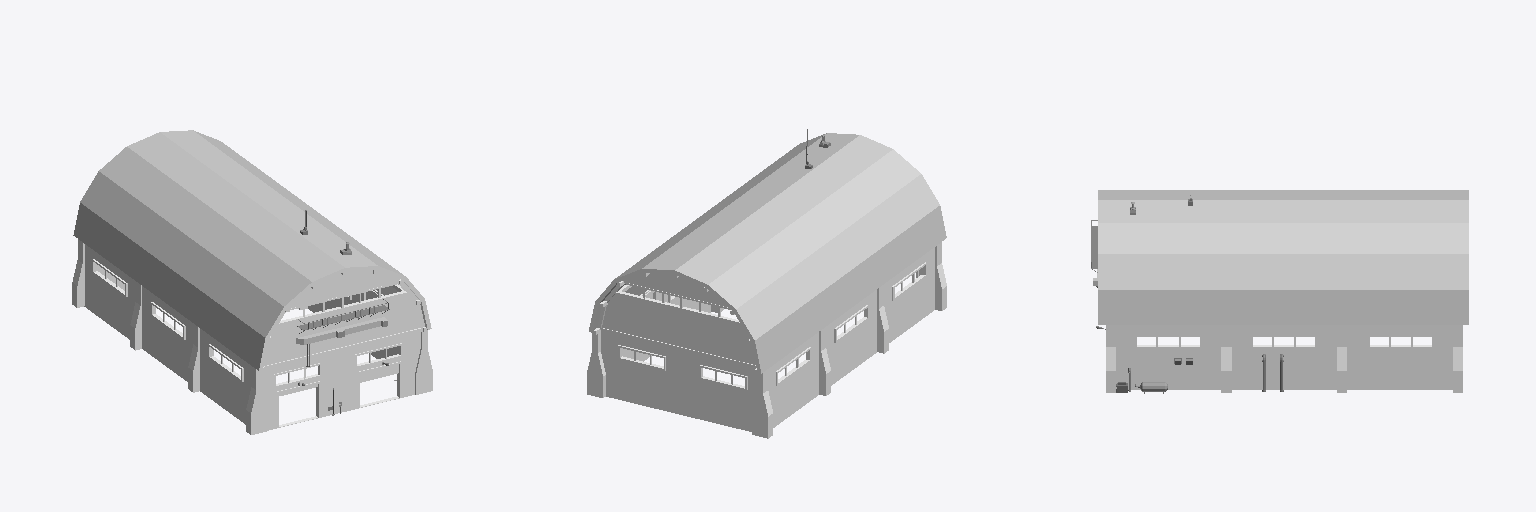
Rendered from ind6_hall1.obj.
3 views of the same model, side by side, from view 1: azimuth 30°, elevation 25°; view 2: azimuth 150°, elevation 25°; view 3: azimuth 270°, elevation 25° (orthographic).
Visible parts, largest first — view 1: Mesh; view 2: Mesh; view 3: Mesh.
Part boxes in pixels (x1,y1,x2,y2): Mesh: (72, 130, 432, 434); Mesh: (587, 129, 946, 438); Mesh: (1091, 190, 1468, 393).
Size of the model in its own units: 23.49 by 22.95 by 41.85.